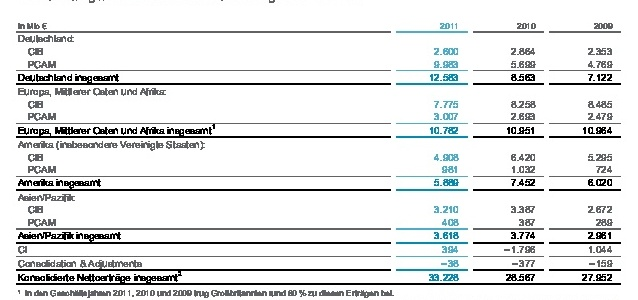table: (0, 0, 638, 300)
